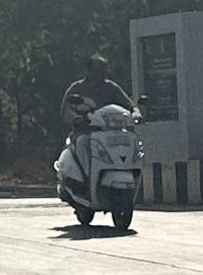BikeWithRider: (48, 47, 153, 233)
NoHelmet: (79, 48, 114, 82)
